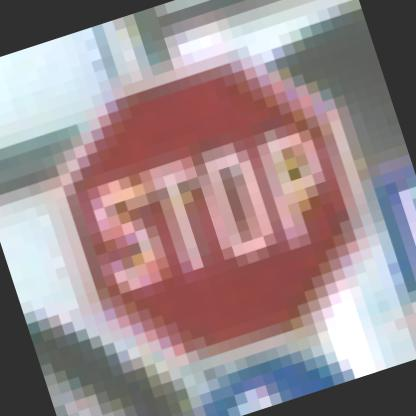stop: (3, 8, 415, 406)
